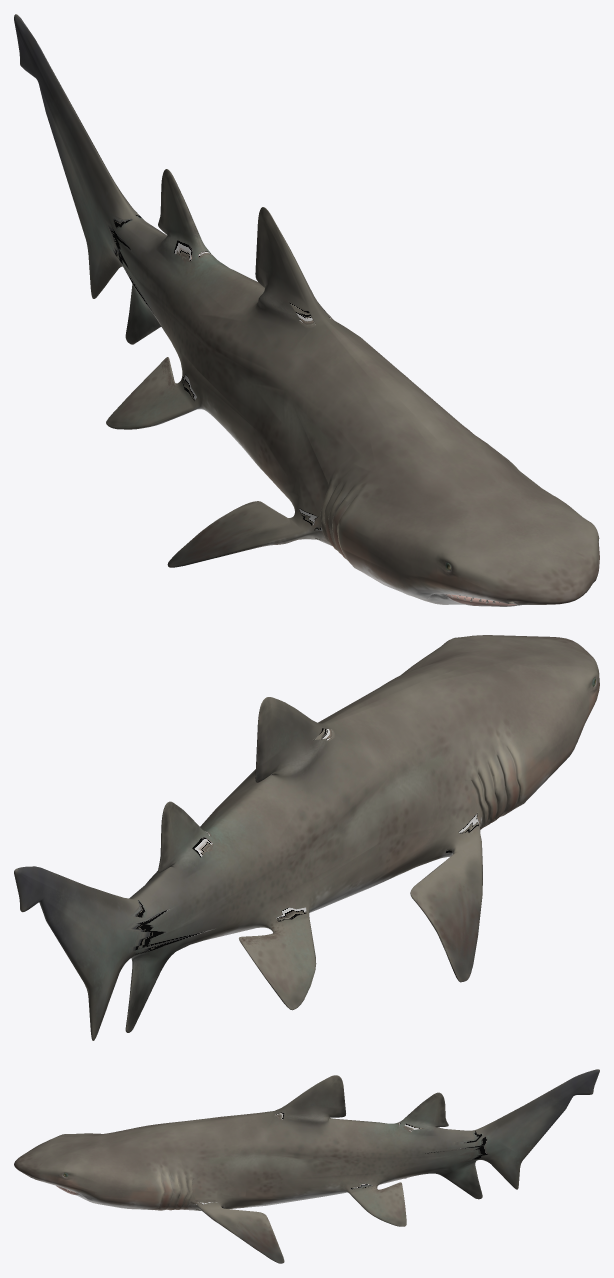
File: 12960_Shark_v2_L1.obj
The picture shows the model from 3 angles, top to bottom: view 1: azimuth 30°, elevation 25°; view 2: azimuth 150°, elevation 25°; view 3: azimuth 270°, elevation 25°; orthographic projection. The views are drawn at different scales.
Parts seen in each view (by area): view 1: 12960_Shark_v2; view 2: 12960_Shark_v2; view 3: 12960_Shark_v2.
Part boxes in pixels (x1=…): 12960_Shark_v2: x1=14, y1=14, x2=599, y2=606; 12960_Shark_v2: x1=14, y1=635, x2=599, y2=1040; 12960_Shark_v2: x1=14, y1=1069, x2=599, y2=1263.
Size of the model in its own units: 0.7673 by 0.7264 by 2.47.
Materials: 1 (1 with a texture image).
